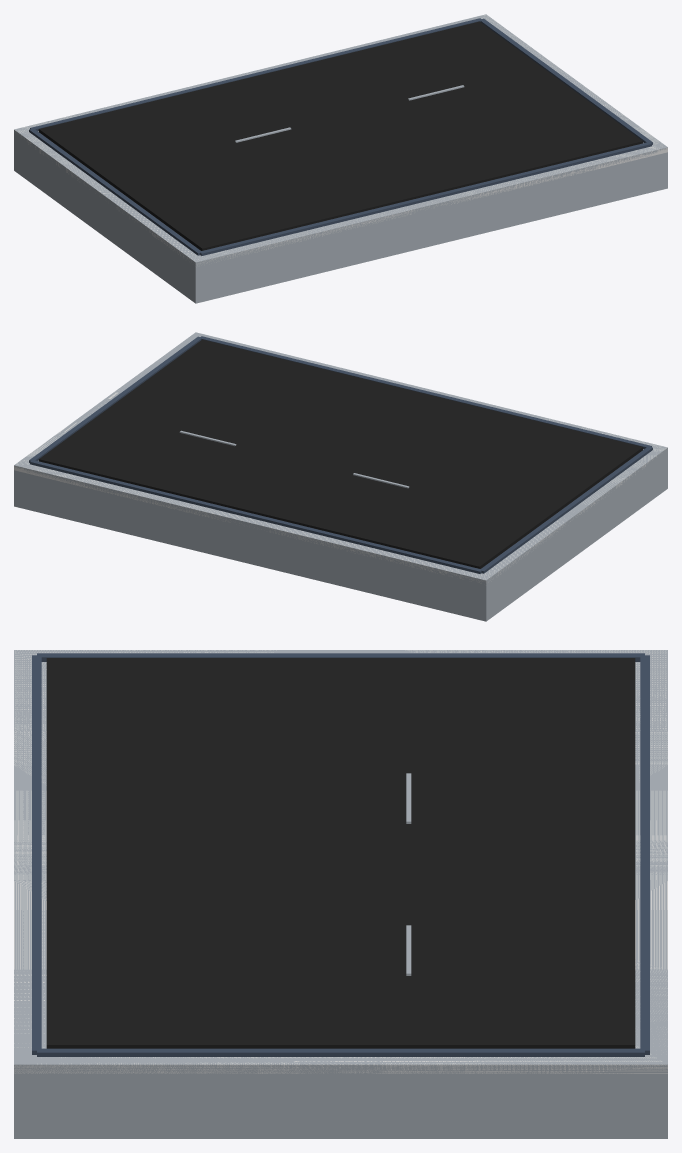
The model's file is Biển số nhà nền alu chữ nổi đồng.obj.
The picture shows the model from 3 angles, top to bottom: view 1: azimuth 30°, elevation 25°; view 2: azimuth 150°, elevation 25°; view 3: azimuth 270°, elevation 25°; orthographic projection. The views are drawn at different scales.
Visible parts, largest first — view 1: khoi, thanh; view 2: khoi, thanh; view 3: khoi, thanh.
Part boxes in pixels (<box>): khoi: <box>14,14,667,303</box>; thanh: <box>29,18,652,255</box>; khoi: <box>14,332,667,621</box>; thanh: <box>29,336,652,573</box>; khoi: <box>14,650,667,1138</box>; thanh: <box>32,653,649,1056</box>.
Size of the model in its own units: 0.3 by 0.0277 by 0.2.
